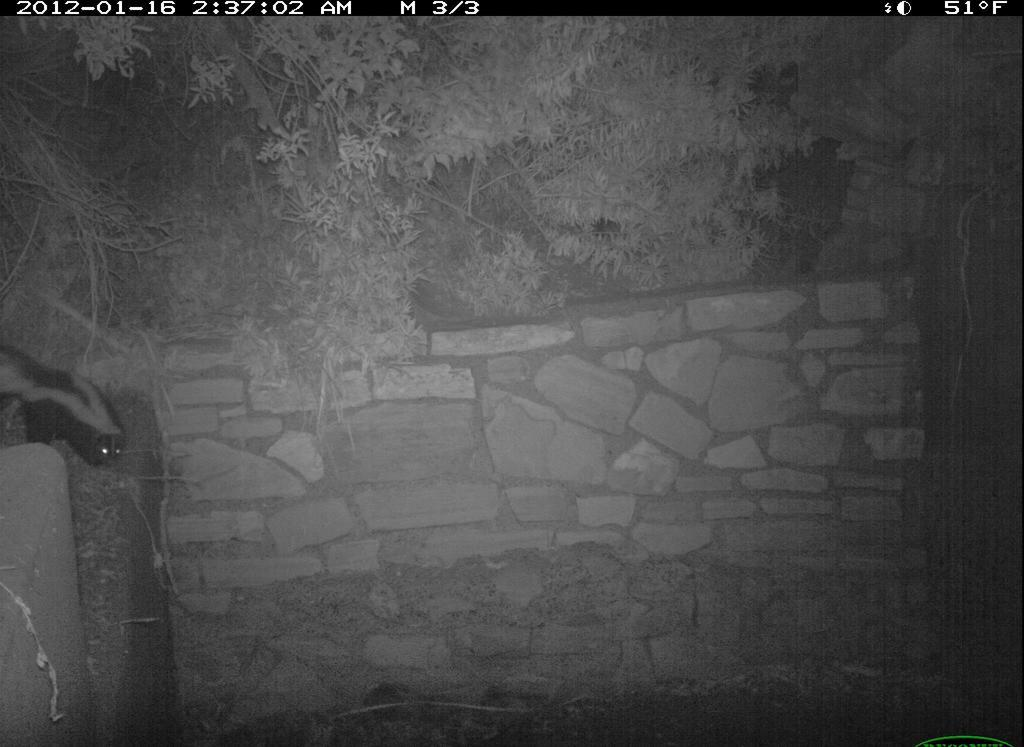skunk: (3, 333, 129, 475)
